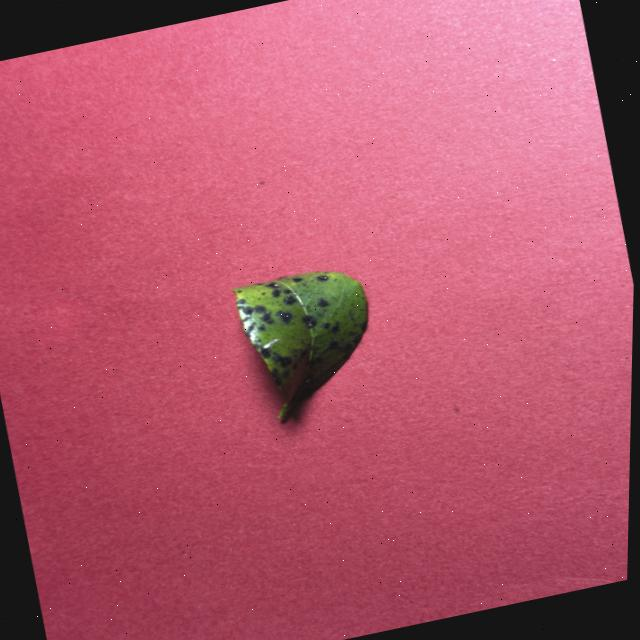sooty_mold: (233, 271, 367, 418)
